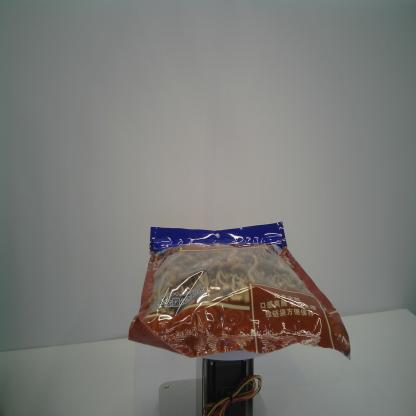Dried Food: (128, 218, 352, 360)
